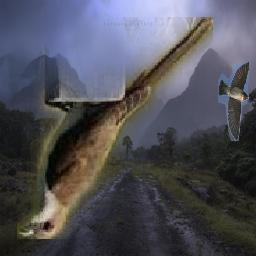Cuckoo: (17, 17, 213, 239)
Swallow: (219, 61, 250, 141)
